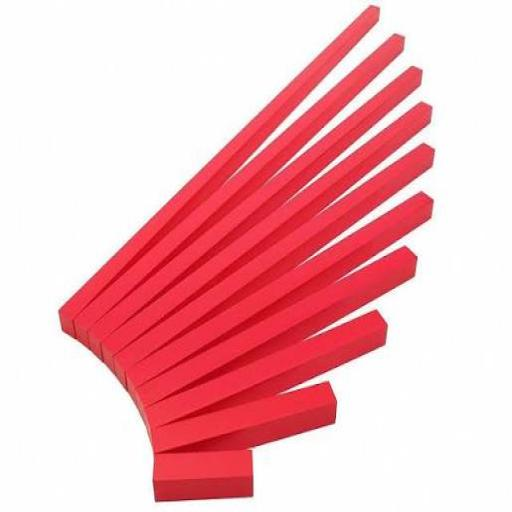knobbedcylinders: (56, 0, 436, 512)
